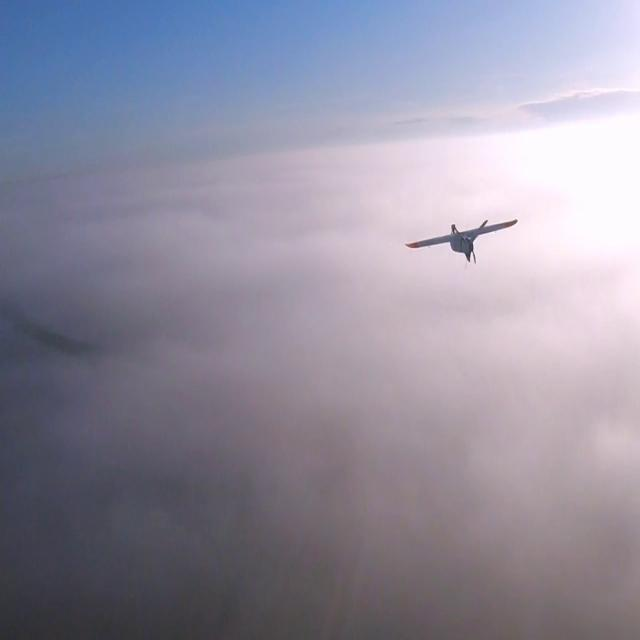iha: (437, 220, 484, 264)
